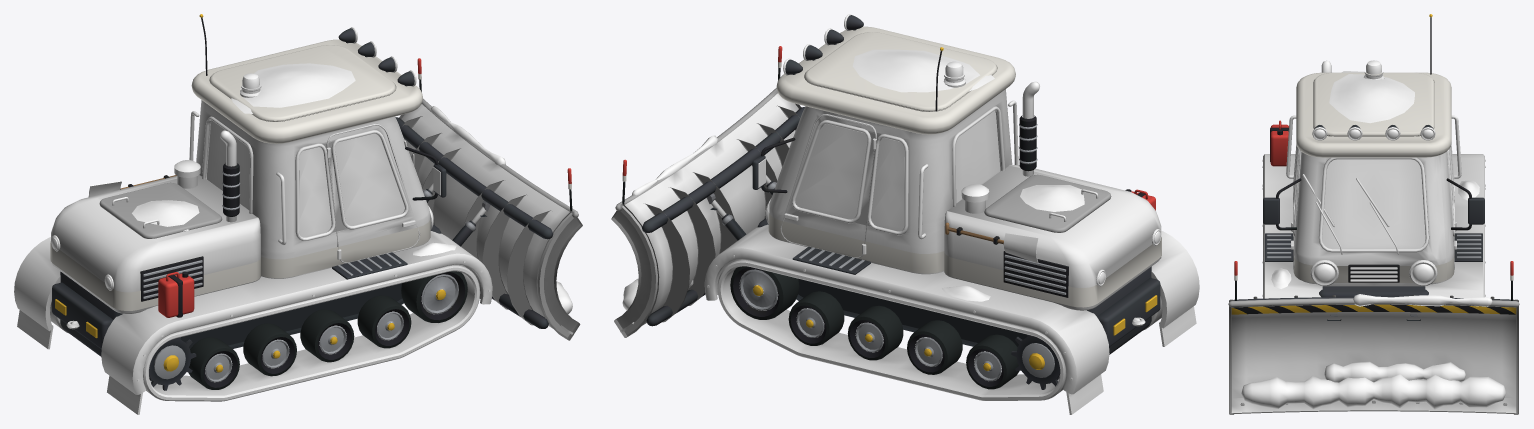
Rendered from snowplow.glb.
3 views of the same model, side by side, from view 1: azimuth 30°, elevation 25°; view 2: azimuth 150°, elevation 25°; view 3: azimuth 270°, elevation 25° (orthographic). The views are drawn at different scales.
Parts seen in each view (by area): view 1: mesh_body_paint, mesh_body_trim, mesh_blade_paint, mesh_trackR_tread, mesh_body_glass, mesh_body_snow, mesh_body_rubber, mesh_blade_trim, mesh_body_chrome, mesh_wheelR5_trim, mesh_wheelR3_trim, mesh_wheelR4_trim (+4 smaller); view 2: mesh_body_paint, mesh_body_trim, mesh_blade_paint, mesh_body_glass, mesh_trackL_tread, mesh_body_snow, mesh_body_rubber, mesh_blade_trim, mesh_body_chrome, mesh_wheelL5_trim, mesh_wheelL3_trim, mesh_wheelL2_trim (+5 smaller); view 3: mesh_blade_paint, mesh_body_trim, mesh_body_paint, mesh_blade_snow, mesh_body_glass, mesh_body_snow, mesh_body_rubber, mesh_blade_trim, mesh_body_chrome, mesh_blade_metal, mesh_body_glow.
Boxes of the visible parts, bbox=[...] form: mesh_body_paint: bbox=[14, 100, 492, 394]; mesh_body_trim: bbox=[50, 14, 446, 363]; mesh_blade_paint: bbox=[399, 98, 582, 340]; mesh_trackR_tread: bbox=[143, 264, 480, 401]; mesh_body_glass: bbox=[207, 120, 404, 237]; mesh_body_snow: bbox=[132, 63, 456, 256]; mesh_body_rubber: bbox=[17, 116, 422, 414]; mesh_blade_trim: bbox=[395, 58, 572, 328]; mesh_body_chrome: bbox=[51, 27, 490, 381]; mesh_wheelR5_trim: bbox=[401, 271, 467, 322]; mesh_wheelR3_trim: bbox=[300, 309, 354, 362]; mesh_wheelR4_trim: bbox=[357, 295, 411, 348]; mesh_body_paint: bbox=[704, 89, 1199, 394]; mesh_body_trim: bbox=[752, 15, 1161, 361]; mesh_blade_paint: bbox=[611, 88, 801, 337]; mesh_body_glass: bbox=[795, 110, 1000, 231]; mesh_trackL_tread: bbox=[717, 259, 1066, 400]; mesh_body_snow: bbox=[852, 49, 1084, 301]; mesh_body_rubber: bbox=[777, 106, 1196, 414]; mesh_blade_trim: bbox=[622, 46, 804, 326]; mesh_body_chrome: bbox=[707, 14, 1161, 380]; mesh_wheelL5_trim: bbox=[730, 266, 799, 319]; mesh_wheelL3_trim: bbox=[847, 305, 903, 360]; mesh_wheelL2_trim: bbox=[907, 320, 962, 374]; mesh_blade_paint: bbox=[1228, 295, 1519, 414]; mesh_body_trim: bbox=[1263, 14, 1484, 297]; mesh_body_paint: bbox=[1263, 151, 1484, 298]; mesh_blade_snow: bbox=[1241, 294, 1506, 409]; mesh_body_glass: bbox=[1322, 159, 1425, 248]; mesh_body_snow: bbox=[1271, 71, 1479, 288]; mesh_body_rubber: bbox=[1293, 143, 1454, 269]; mesh_blade_trim: bbox=[1231, 261, 1516, 320]; mesh_body_chrome: bbox=[1262, 60, 1485, 296]; mesh_blade_metal: bbox=[1231, 398, 1516, 414]; mesh_body_glow: bbox=[1314, 129, 1433, 283].
Bounding box in the file's own units: 4.98 × 3.31 × 3.07.
